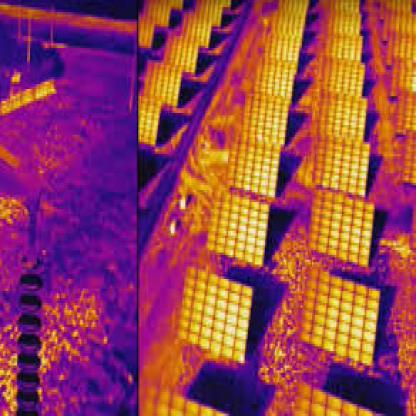Defects: (245, 219, 265, 252), (180, 194, 188, 212), (171, 214, 177, 238)
